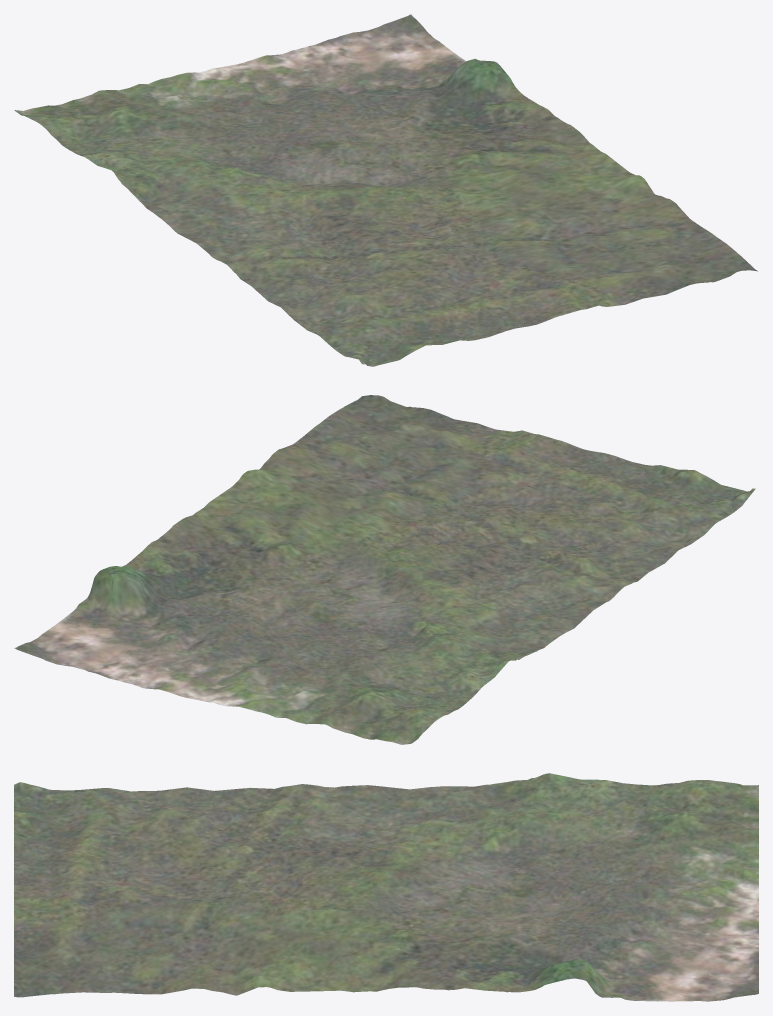
File: Tile__000__008_L22_00001000.glb
3 views of the same model, one above another, from view 1: azimuth 30°, elevation 25°; view 2: azimuth 150°, elevation 25°; view 3: azimuth 270°, elevation 25° (orthographic). The views are drawn at different scales.
Parts seen in each view (by area): view 1: root; view 2: root; view 3: root.
Part boxes in pixels (<box>): root: <box>14,14,757,366</box>; root: <box>14,395,755,744</box>; root: <box>14,773,758,1001</box>.
Bounding box in the file's own units: 15.49 × 1.05 × 23.5.
1 material, 1 textured.
